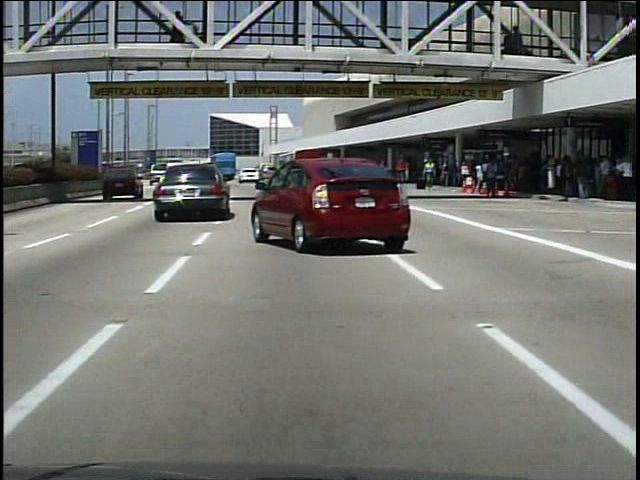person: (483, 158, 501, 205), (170, 13, 187, 45), (423, 160, 439, 193)
